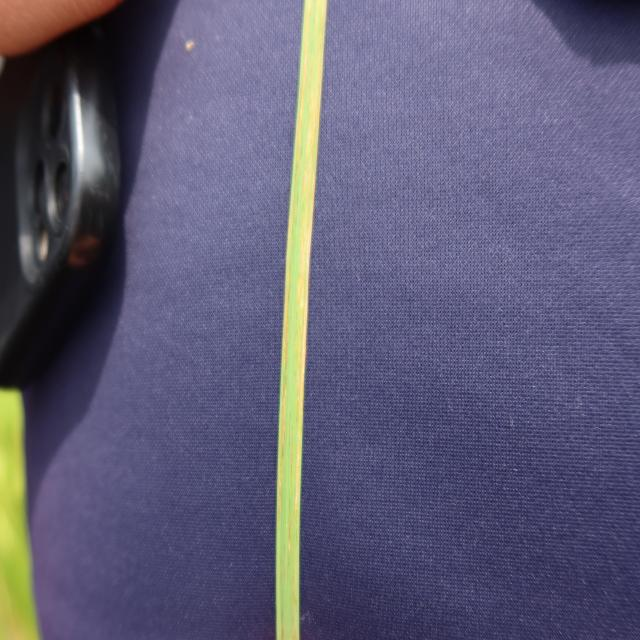Dom soc vi khuan: (299, 0, 325, 302), (278, 213, 294, 517), (293, 0, 312, 210), (294, 433, 301, 514), (297, 309, 303, 400), (287, 496, 291, 562), (291, 428, 293, 482), (283, 547, 286, 581), (293, 562, 294, 616)
